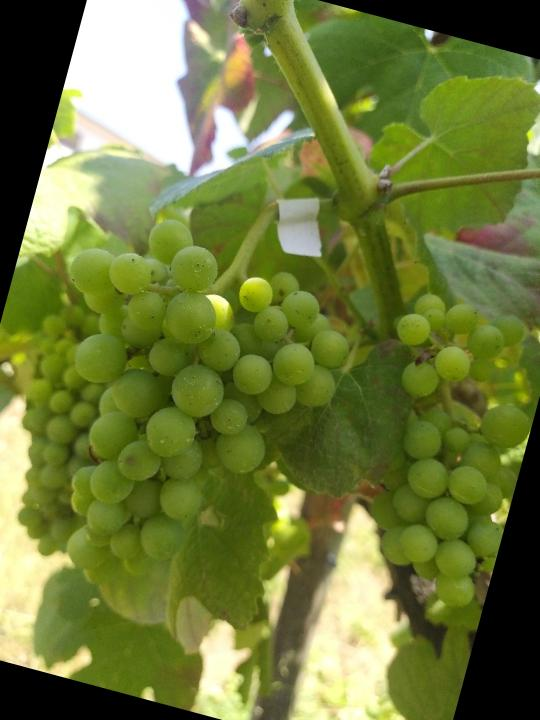grape: (0, 194, 375, 638)
